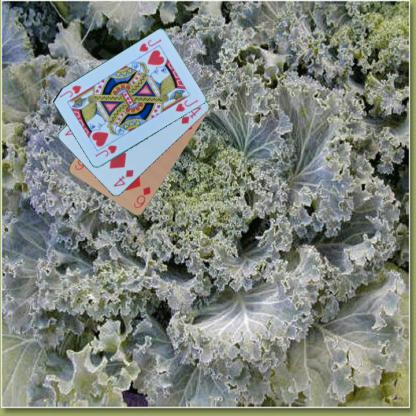4d: (111, 167, 135, 188)
6d: (131, 184, 152, 209)
Jh: (136, 36, 162, 54), (92, 143, 118, 158)
